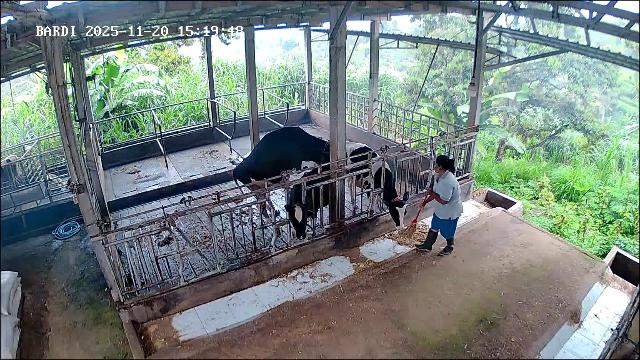mounting: (232, 125, 329, 228)
